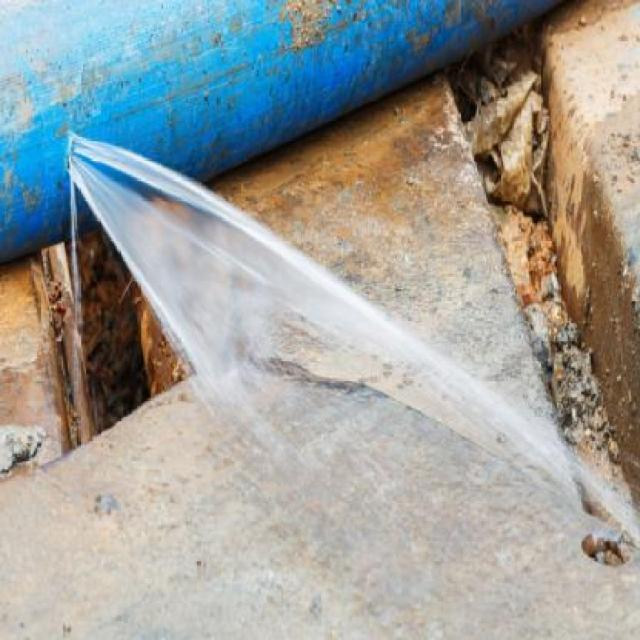leak: (71, 138, 640, 640)
